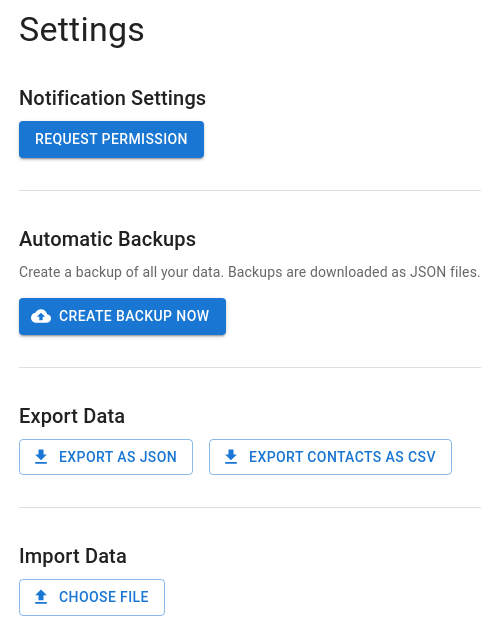
it: SettingsPage › should show notification toggle after permission is granted
Click the button "Request Permission": (111, 140) [19,122,204,158]
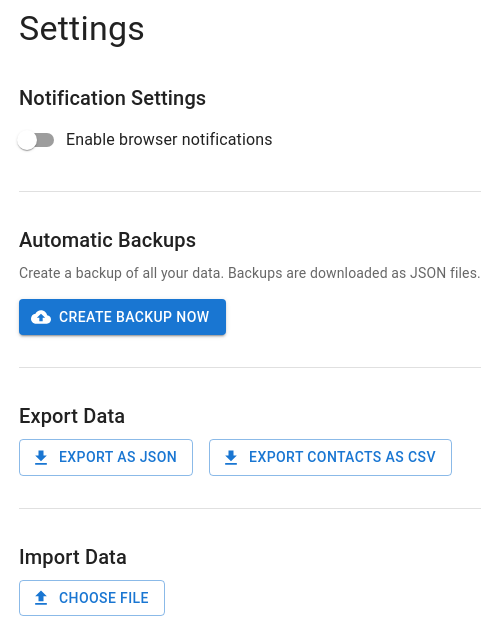
expect the switch labelled "Enable browser notifications" is shown: met, box [17,130,273,150]
